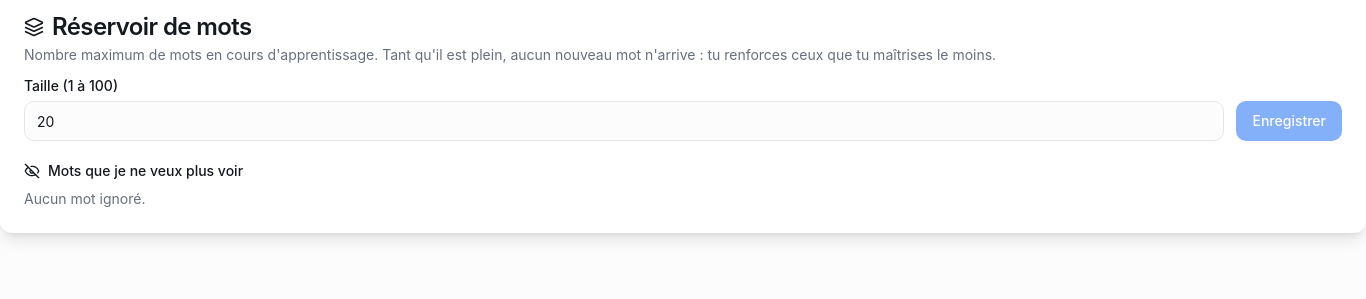
Scenario: ReservoirSettings — taille › refuse la valeur invalide « 0 » (message + bouton désactivé)
Replace the text in the number field with test id "reservoir-input" with "0" at (624, 121), box [24, 101, 1224, 141]
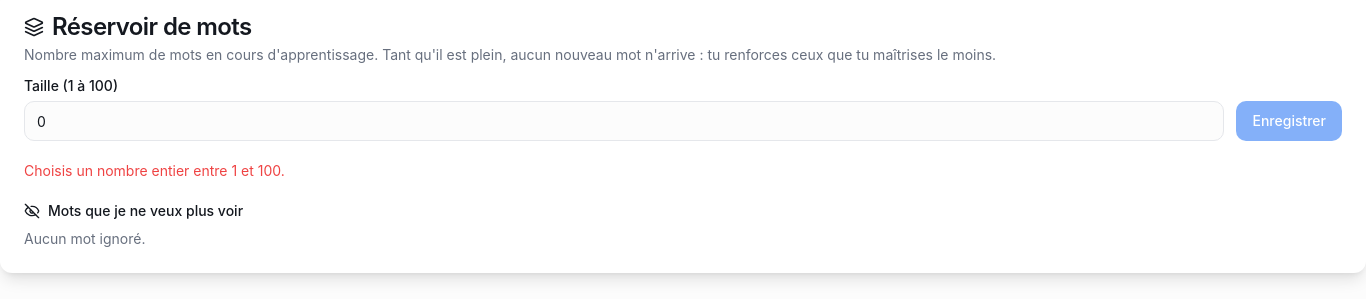
Expected: the button with test id "reservoir-save" is disabled, [1236, 101, 1342, 141]
Expected: the text "Choisis un nombre entier entre 1 et 100." is shown, [24, 162, 285, 179]
